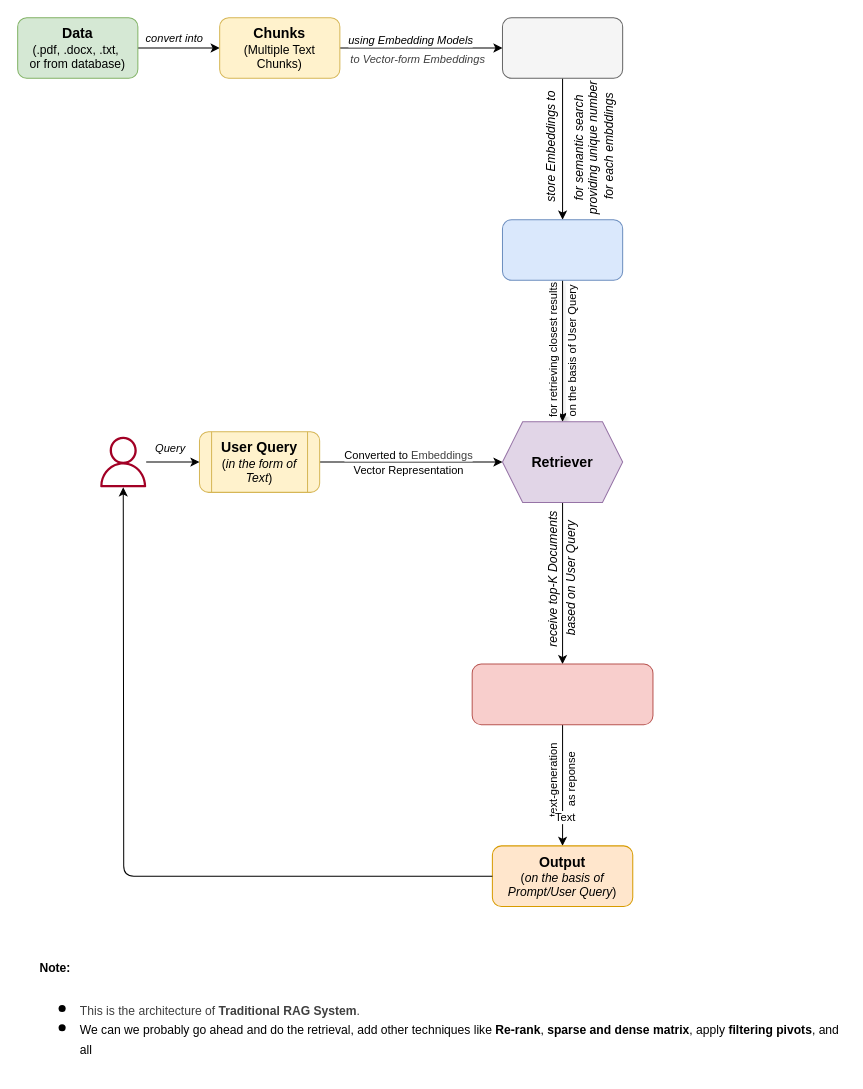
This 863x1089 diagram has some shape labels left out. The shapes that lost their labels are listed below. From the top down, each one's centre as x and y in pixels, then its label:
At point 562,47: "Embeddings".
At point 562,249: "Knowledge Base ( vector databases )".
At point 562,694: "Large Language Models (LLMs)".
